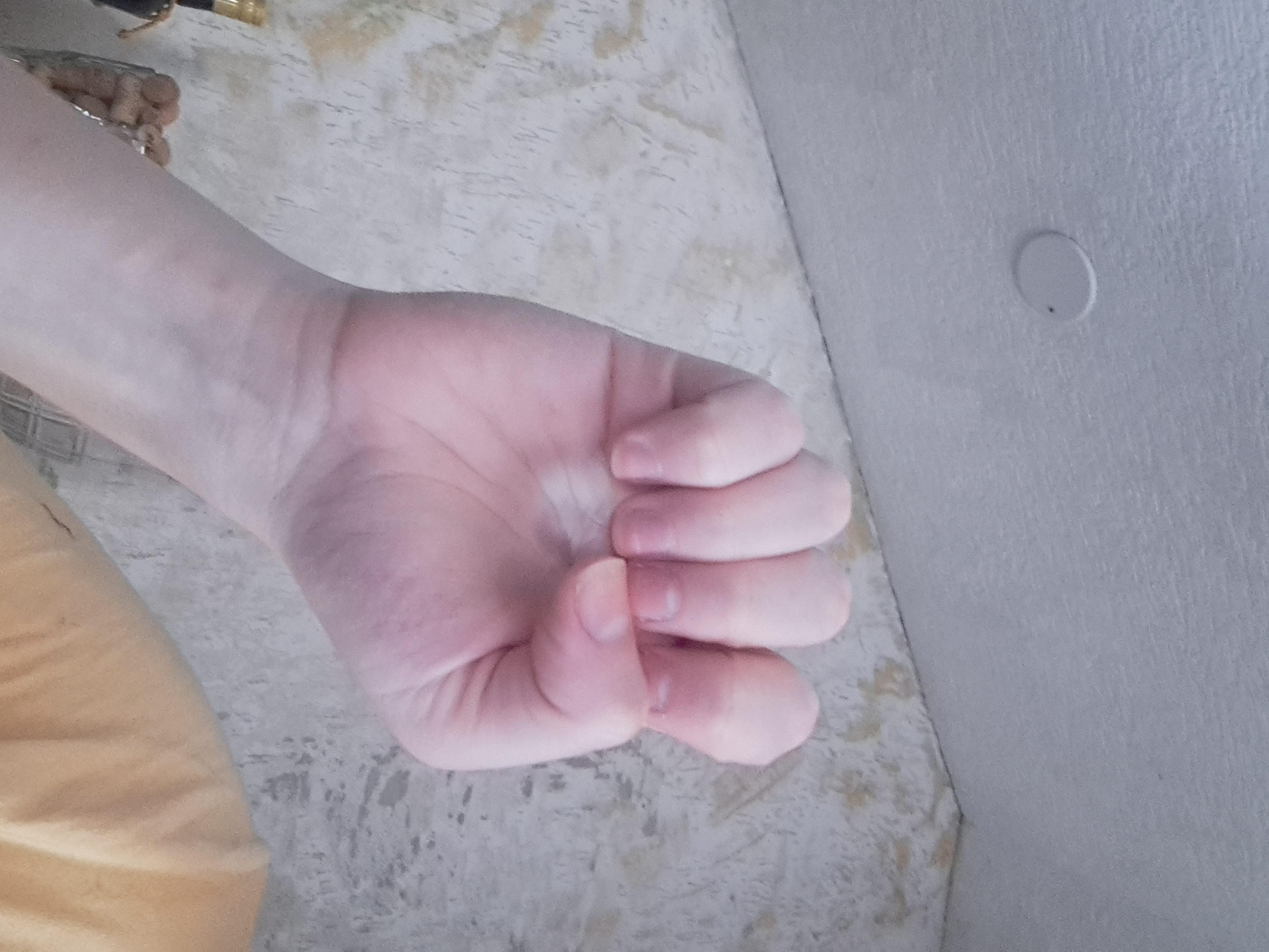E: (363, 309, 1068, 726)
